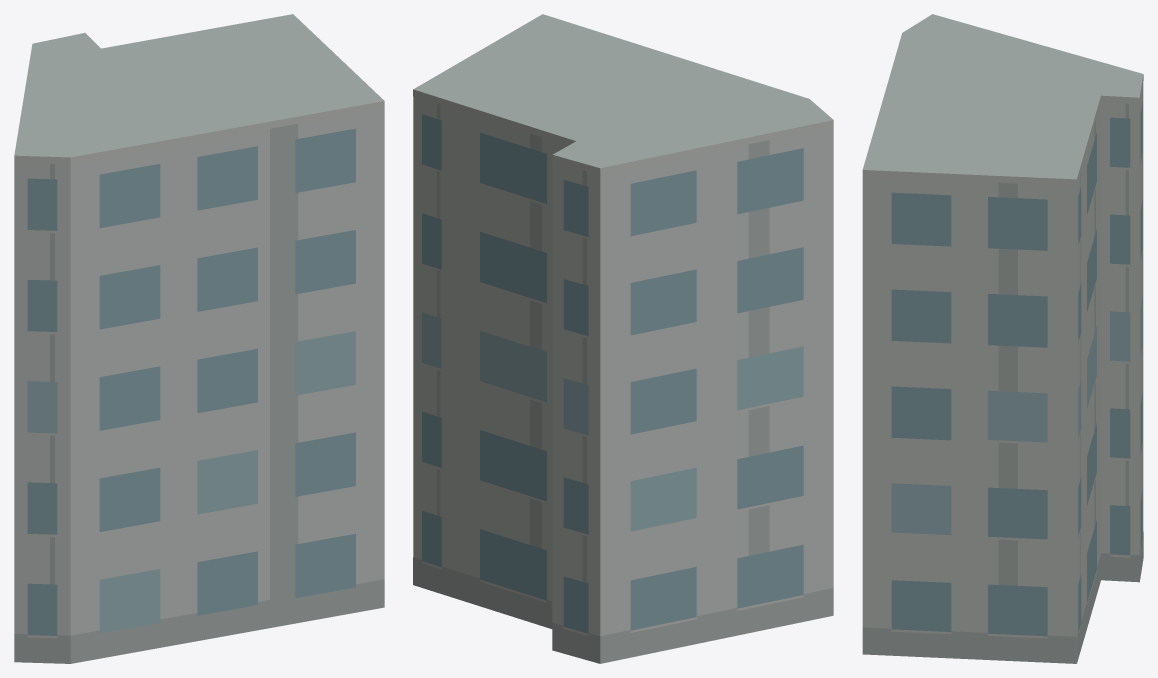
Rendered from survey-upis-33029331.glb.
3 renders of one model, left to right at view 1: azimuth 30°, elevation 25°; view 2: azimuth 150°, elevation 25°; view 3: azimuth 270°, elevation 25°, orthographic. The views are drawn at different scales.
Parts seen in each view (by area): view 1: survey-upis-33029331.tmp; view 2: survey-upis-33029331.tmp; view 3: survey-upis-33029331.tmp.
Boxes of the visible parts, left/top/right/bottom form: survey-upis-33029331.tmp: left=14, top=14, right=384, bottom=663; survey-upis-33029331.tmp: left=413, top=14, right=833, bottom=663; survey-upis-33029331.tmp: left=862, top=14, right=1143, bottom=663.
Bounding box in the file's own units: 12.75 × 17.4 × 9.15.
